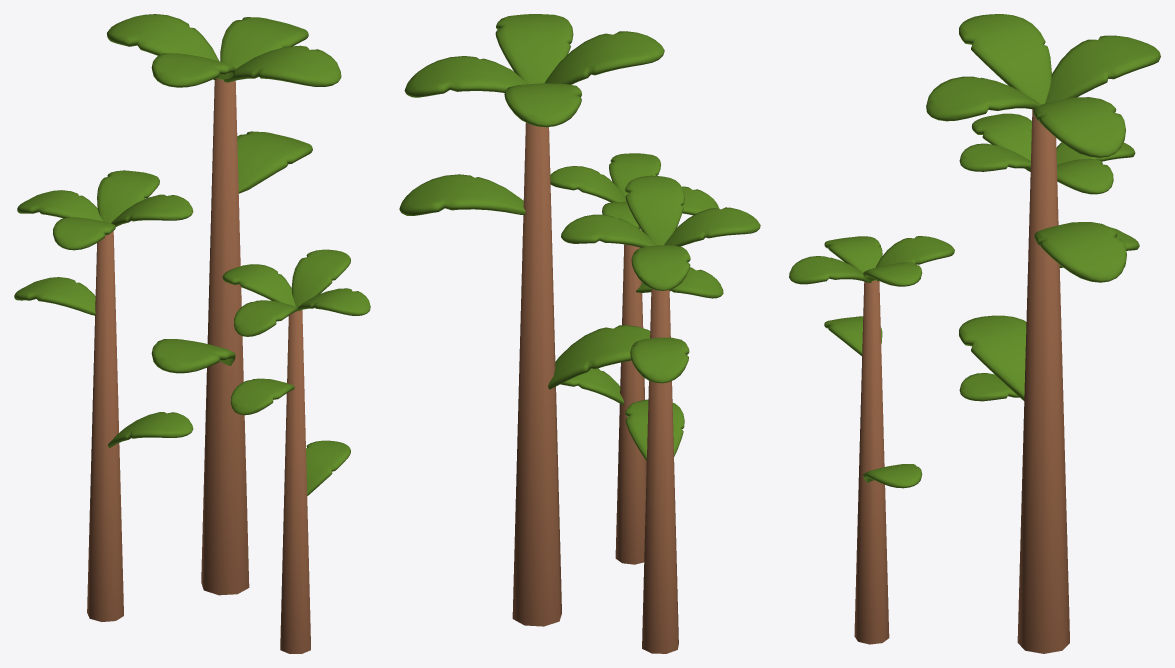
Rendered from Tree grp.FBX.
3 views of the same model, side by side, from view 1: azimuth 30°, elevation 25°; view 2: azimuth 150°, elevation 25°; view 3: azimuth 270°, elevation 25° (orthographic). The views are drawn at different scales.
Visible parts, largest first — view 1: Object012; view 2: Object012; view 3: Object012.
Part boxes in pixels (bbox=[...]): Object012: bbox=[14, 14, 370, 653]; Object012: bbox=[399, 14, 760, 653]; Object012: bbox=[789, 14, 1160, 653].
Size of the model in its own units: 71.22 by 127 by 73.38.
1 material, 1 textured.
